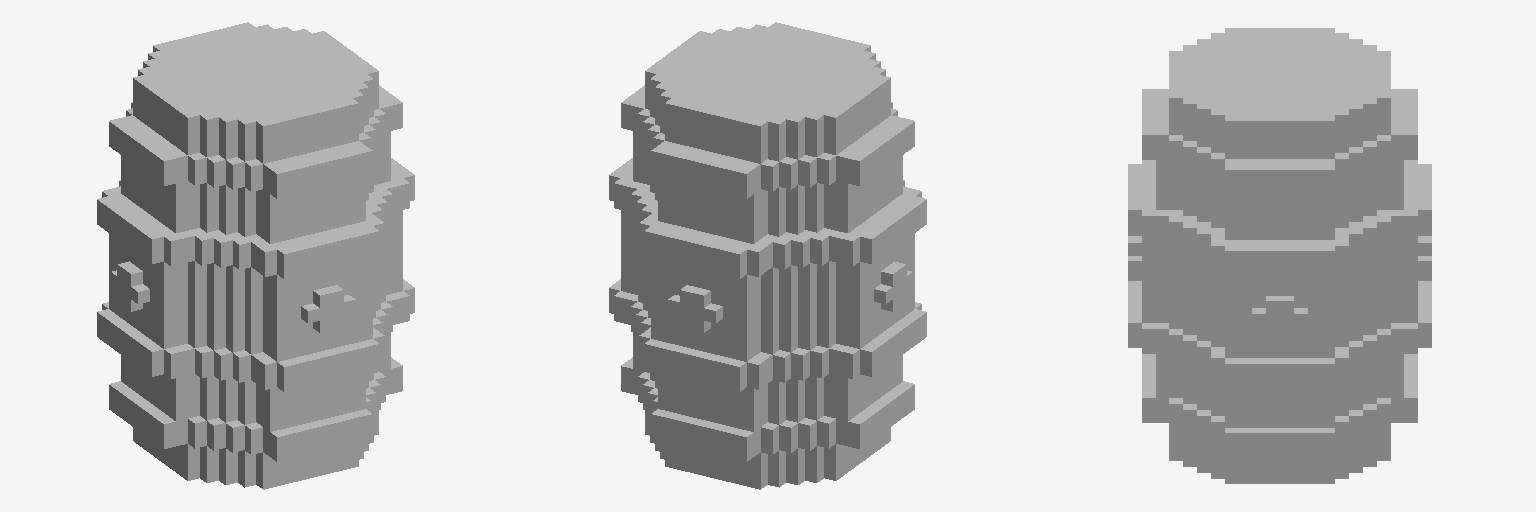
Rendered from barril.obj.
3 renders of one model, left to right at view 1: azimuth 30°, elevation 25°; view 2: azimuth 150°, elevation 25°; view 3: azimuth 270°, elevation 25°, orthographic.
Parts seen in each view (by area): view 1: object 1; view 2: object 1; view 3: object 1.
Boxes of the visible parts, <box> form: object 1: <box>97,22,414,489</box>; object 1: <box>609,22,926,489</box>; object 1: <box>1128,28,1431,483</box>.
Bounding box in the file's own units: 2.2 × 2.9 × 2.2.